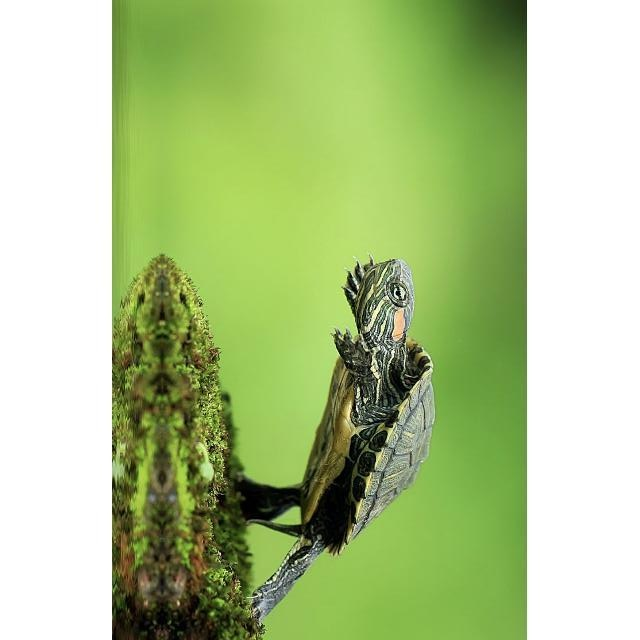turtle: (228, 257, 437, 620)
